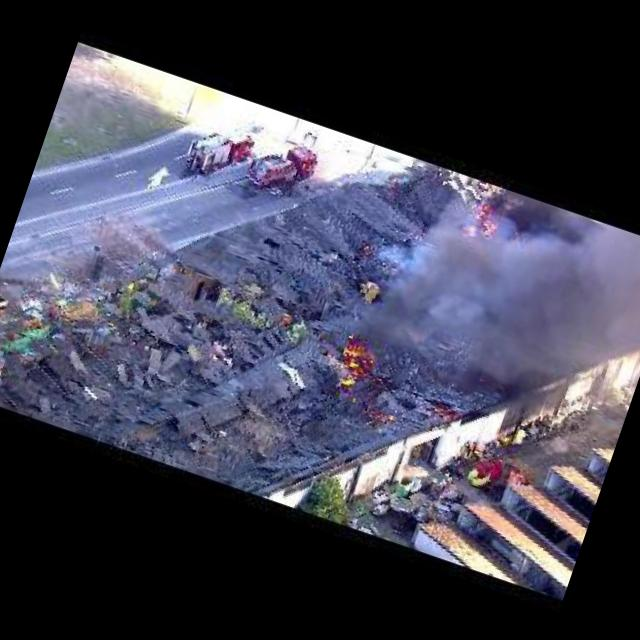fire: (329, 338, 378, 394), (461, 196, 504, 245), (426, 400, 459, 422), (380, 410, 397, 425)
smoke: (360, 162, 640, 447)
